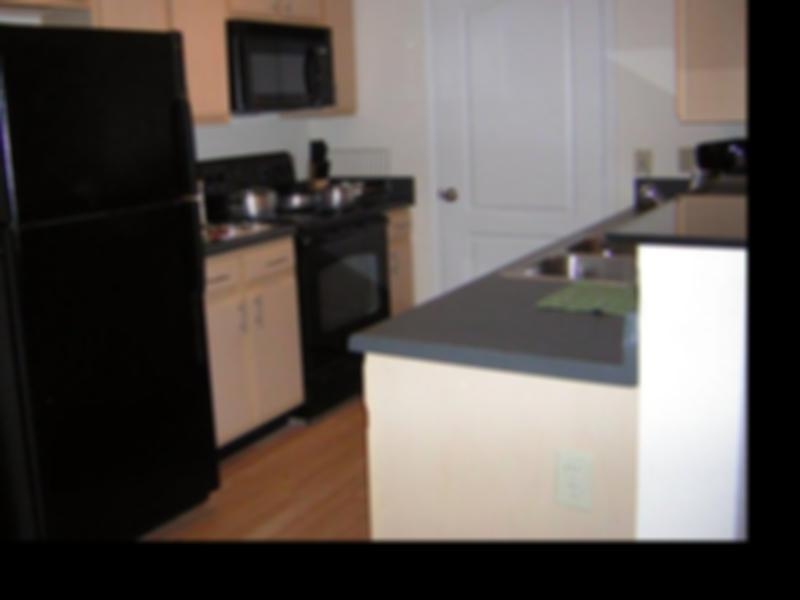Electrodomestico: (0, 21, 216, 520), (300, 216, 387, 388)
Puerta: (431, 0, 608, 225)
